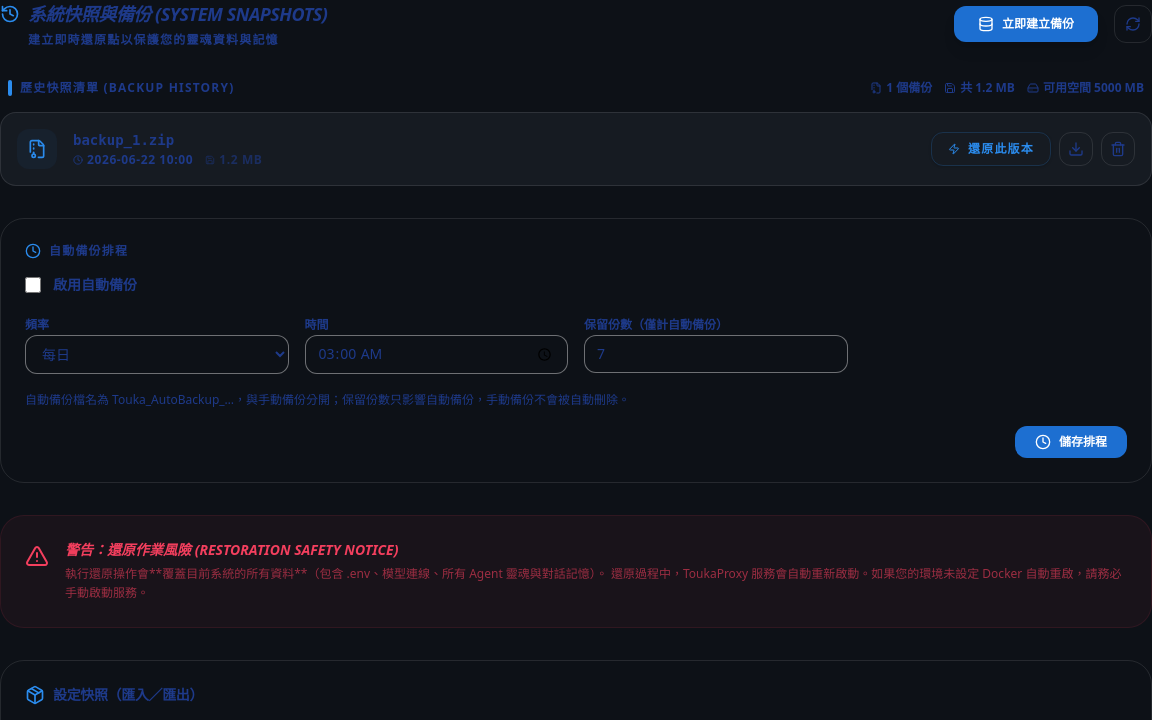
Test case: EnvSettings P1-D 回饋 › I3: 還原確認框以 <Trans> 帶入檔名（不再硬寫拼接）
Click the button "還原此版本". click: {"x": 991, "y": 149}
box: [931, 132, 1051, 166]
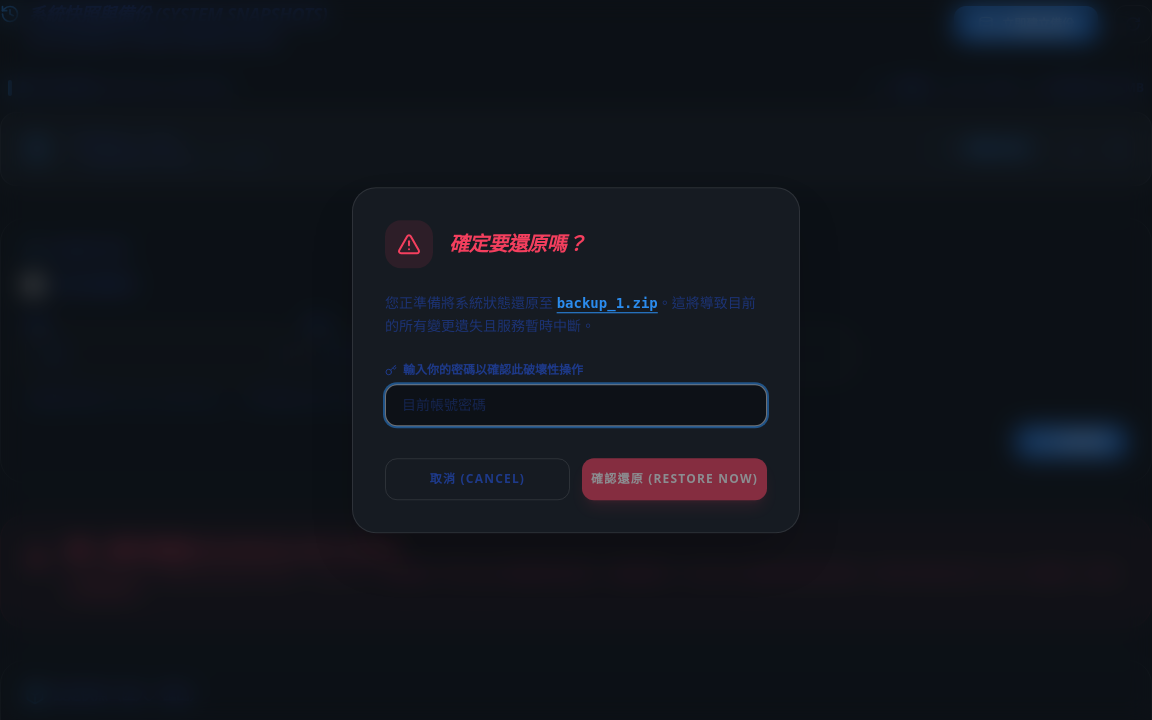
Check: the text "backup_1.zip" is shown, box [557, 295, 658, 311]
